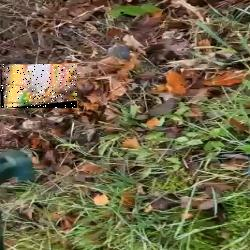plastic: (1, 64, 77, 108)
